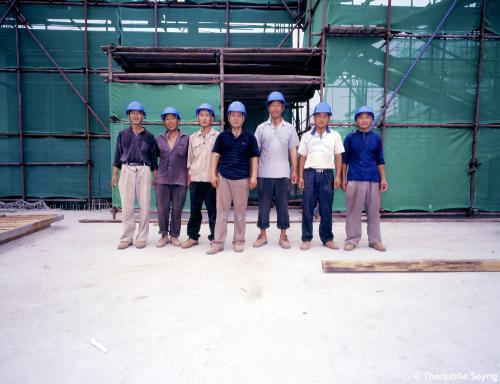helmet: (125, 101, 147, 119), (195, 102, 216, 120), (227, 100, 247, 118), (160, 106, 182, 122), (353, 106, 375, 122), (265, 90, 286, 106), (312, 101, 333, 117)
no-gloves: (210, 172, 220, 190), (110, 173, 120, 191), (248, 174, 258, 190), (380, 178, 389, 194), (332, 174, 340, 190), (290, 168, 298, 184), (341, 176, 348, 192), (299, 174, 305, 192)
no-vest: (254, 116, 300, 180), (211, 127, 261, 180), (341, 128, 386, 184), (112, 125, 159, 170), (298, 127, 346, 170), (155, 130, 190, 188), (186, 127, 221, 183)
person: (204, 100, 262, 256), (252, 90, 300, 249), (297, 100, 347, 252), (340, 104, 390, 252), (110, 100, 159, 250), (180, 102, 222, 249), (154, 106, 190, 249)
shoes: (253, 231, 269, 248), (206, 242, 226, 255), (368, 239, 388, 252), (278, 232, 292, 250), (232, 238, 247, 253), (182, 236, 200, 248), (344, 238, 359, 252), (324, 238, 340, 250), (116, 239, 133, 249), (156, 234, 169, 247), (300, 236, 312, 250), (136, 238, 148, 251), (171, 235, 181, 247)
